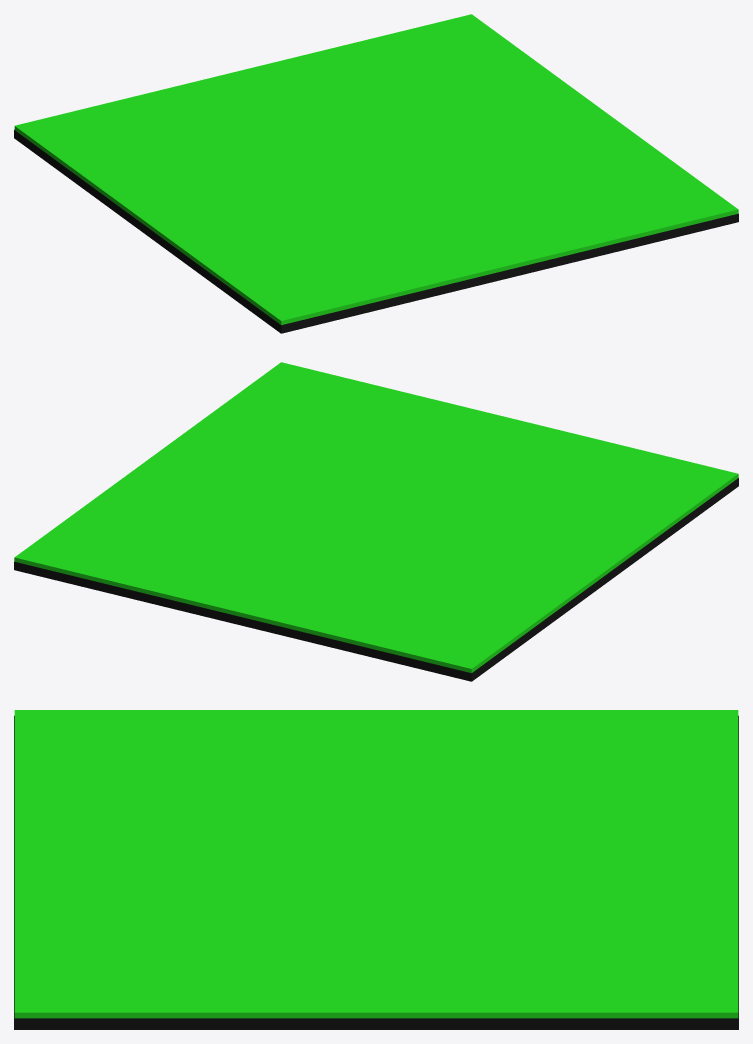
File: floor_tier12.fbx
3 views of the same model, one above another, from view 1: azimuth 30°, elevation 25°; view 2: azimuth 150°, elevation 25°; view 3: azimuth 270°, elevation 25° (orthographic). The views are drawn at different scales.
Parts seen in each view (by area): view 1: Cube, Cube.001; view 2: Cube, Cube.001; view 3: Cube, Cube.001.
Part boxes in pixels (left/top/right/bottom): Cube: left=14, top=14, right=738, bottom=324; Cube.001: left=14, top=129, right=738, bottom=333; Cube: left=14, top=362, right=738, bottom=672; Cube.001: left=14, top=478, right=738, bottom=681; Cube: left=14, top=710, right=738, bottom=1018; Cube.001: left=14, top=715, right=738, bottom=1029.
Size of the model in its own units: 654 by 17.13 by 662.
